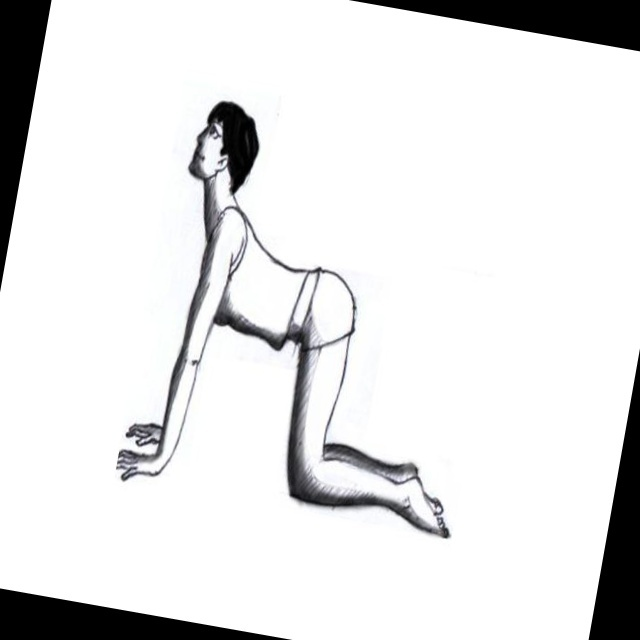Cow_Pose: (117, 101, 451, 540)
